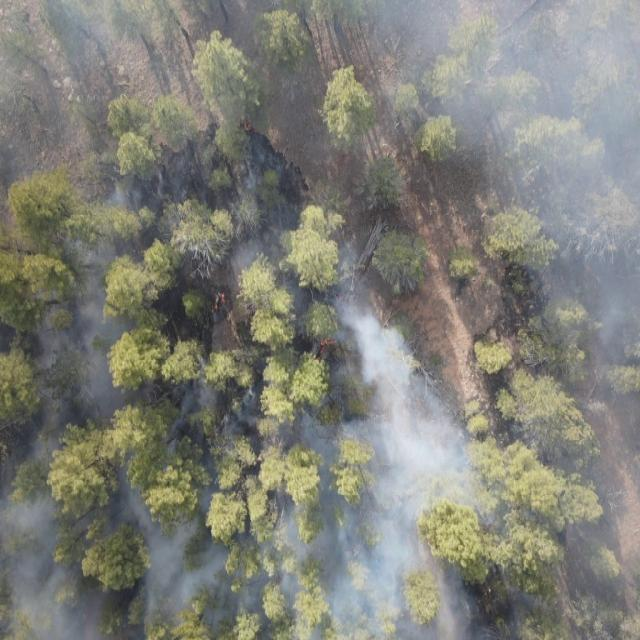fire: (316, 338, 341, 362), (212, 290, 228, 315), (242, 118, 253, 133), (337, 290, 348, 304)
smoke: (0, 0, 640, 640)
